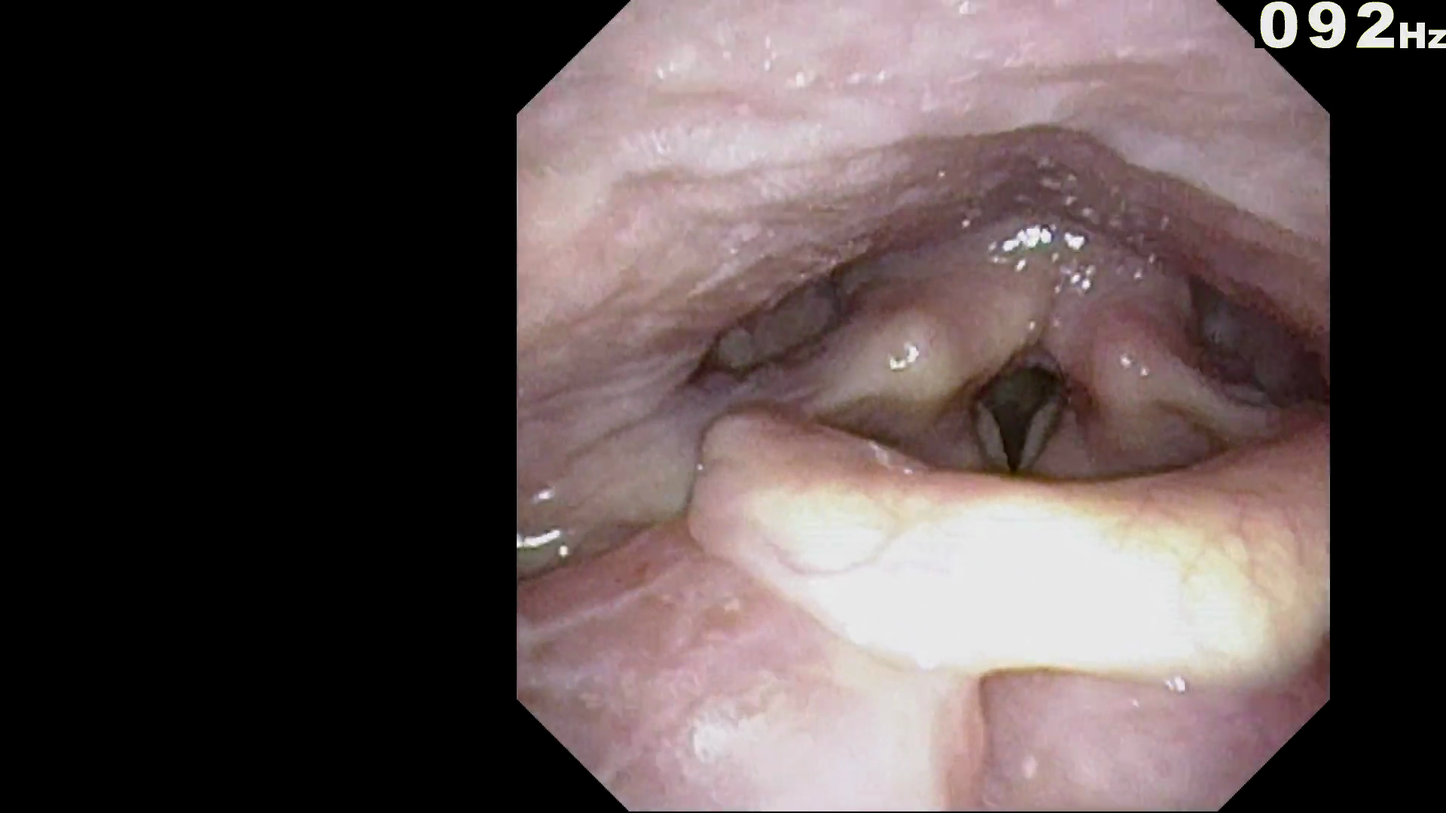epiglottis: (681, 368, 1330, 676)
trachea: (930, 293, 1110, 504)
